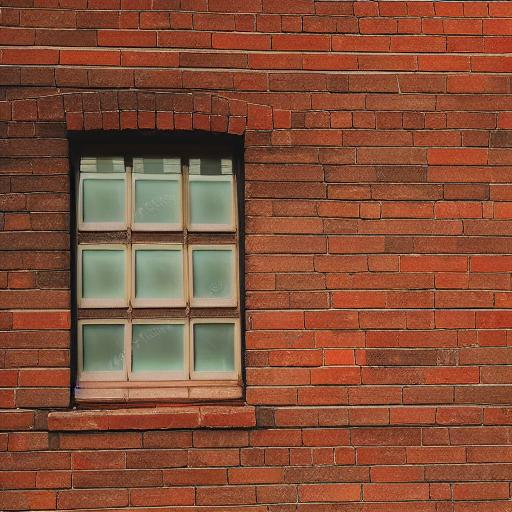Window: (48, 89, 270, 431)
